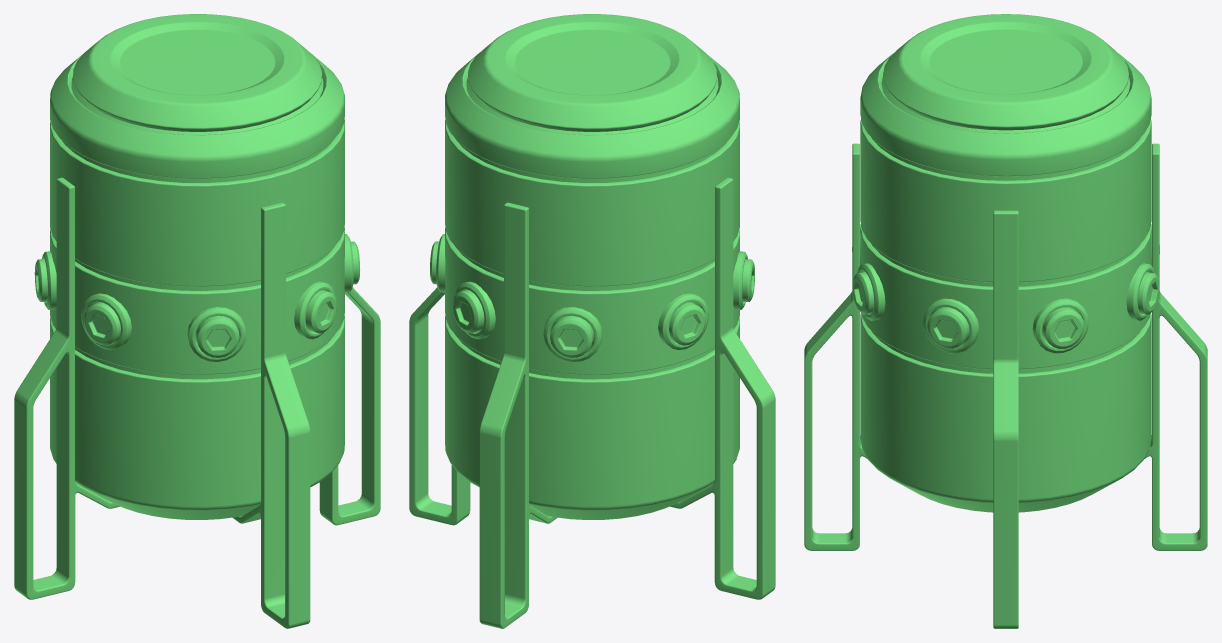
Rendered from SM_Barrel01.fbx.
3 views of the same model, side by side, from view 1: azimuth 30°, elevation 25°; view 2: azimuth 150°, elevation 25°; view 3: azimuth 270°, elevation 25° (orthographic).
Visible parts, largest first — view 1: SM_Barrel01; view 2: SM_Barrel01; view 3: SM_Barrel01.
Part boxes in pixels (left/top/right/bottom): SM_Barrel01: left=14, top=14, right=380, bottom=628; SM_Barrel01: left=409, top=14, right=775, bottom=628; SM_Barrel01: left=804, top=14, right=1207, bottom=628.
Bounding box in the file's own units: 155 × 207 × 155.
